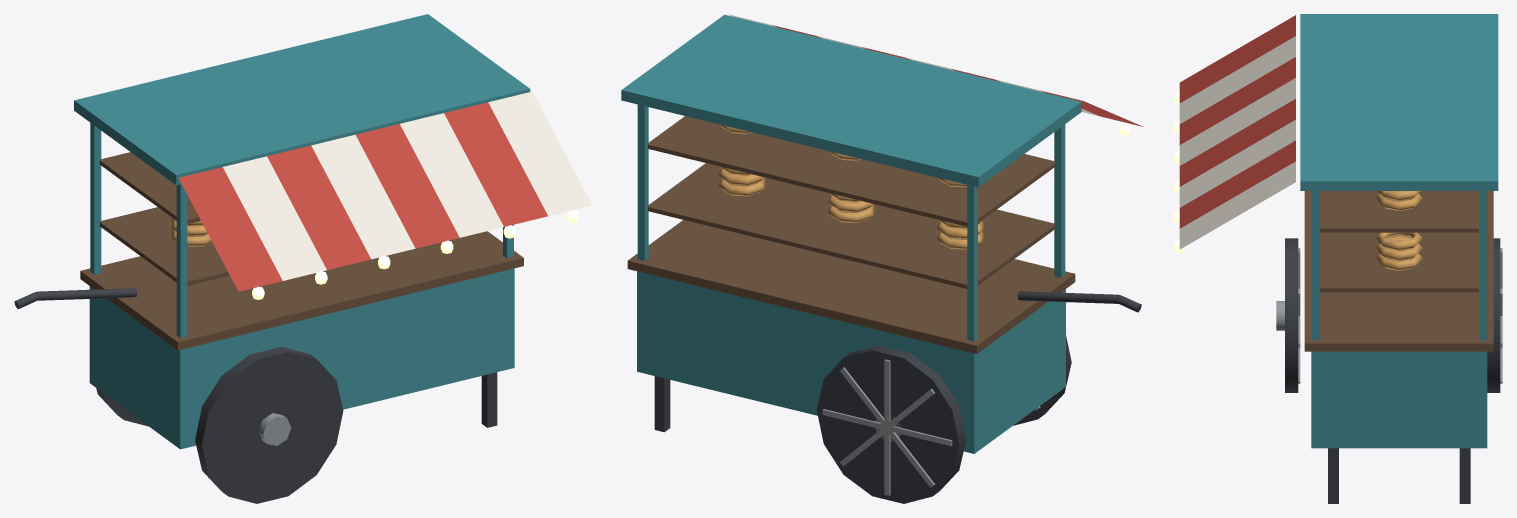
Rendered from prop_simit_cart.glb.
3 renders of one model, left to right at view 1: azimuth 30°, elevation 25°; view 2: azimuth 150°, elevation 25°; view 3: azimuth 270°, elevation 25°, orthographic. The views are drawn at different scales.
Parts seen in each view (by area): view 1: simit_cart.001, simit_cart_lamps; view 2: simit_cart.001; view 3: simit_cart.001, simit_cart_lamps.
Part boxes in pixels (<box>): simit_cart.001: <box>14,14,592,503</box>; simit_cart_lamps: <box>252,210,579,299</box>; simit_cart.001: <box>621,14,1143,503</box>; simit_cart.001: <box>1179,14,1502,503</box>; simit_cart_lamps: <box>1173,91,1185,252</box>.
Bounding box in the file's own units: 2.35 × 1.66 × 1.5.
